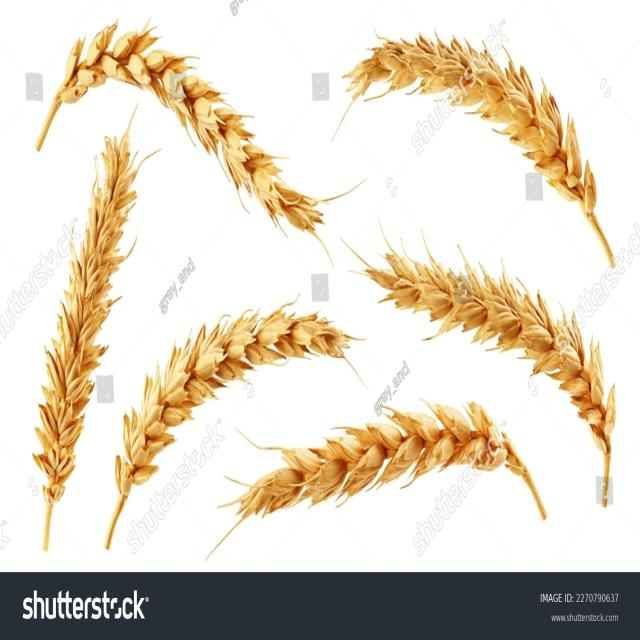Wheathead: (59, 13, 329, 228), (341, 16, 601, 210), (358, 237, 614, 428), (101, 294, 354, 480), (35, 126, 138, 496), (243, 396, 537, 508)
